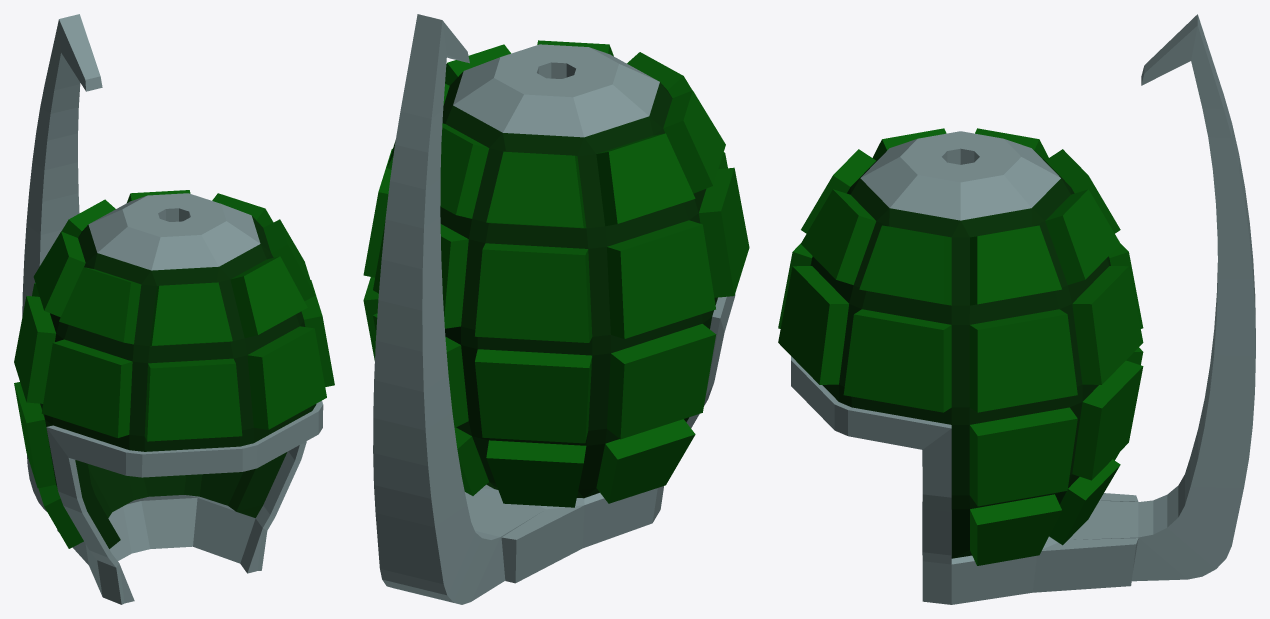
Rendered from bakugo_arm.fbx.
3 renders of one model, left to right at view 1: azimuth 30°, elevation 25°; view 2: azimuth 150°, elevation 25°; view 3: azimuth 270°, elevation 25°, orthographic. The views are drawn at different scales.
Visible parts, largest first — view 1: 球; view 2: 球; view 3: 球.
Boxes of the visible parts, box(x1,y1,x2,y2) form: 球: box(14, 14, 334, 604); 球: box(363, 14, 749, 604); 球: box(778, 14, 1255, 604).
Size of the model in its own units: 217 by 356 by 283.
